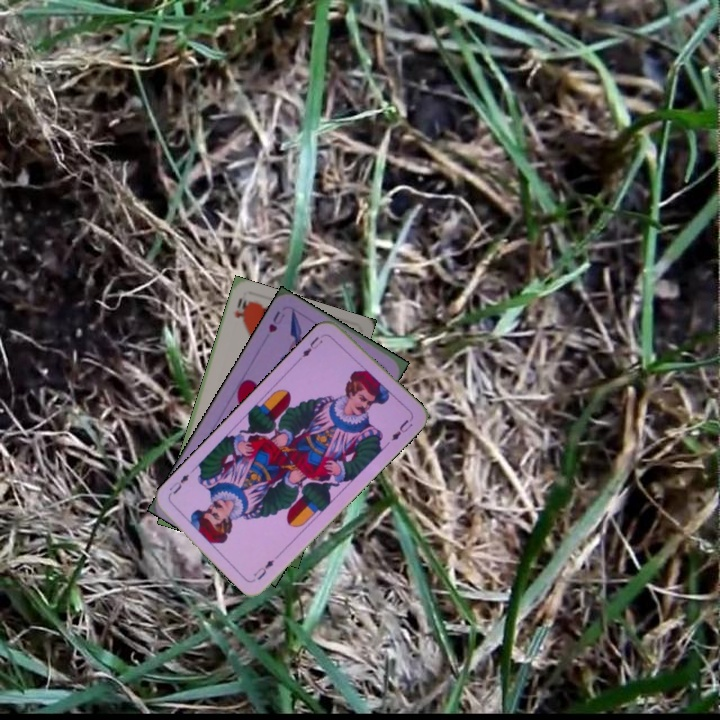EU: (295, 332, 325, 363), (249, 556, 277, 583)
HO: (230, 294, 251, 325)
HU: (264, 307, 288, 335)
